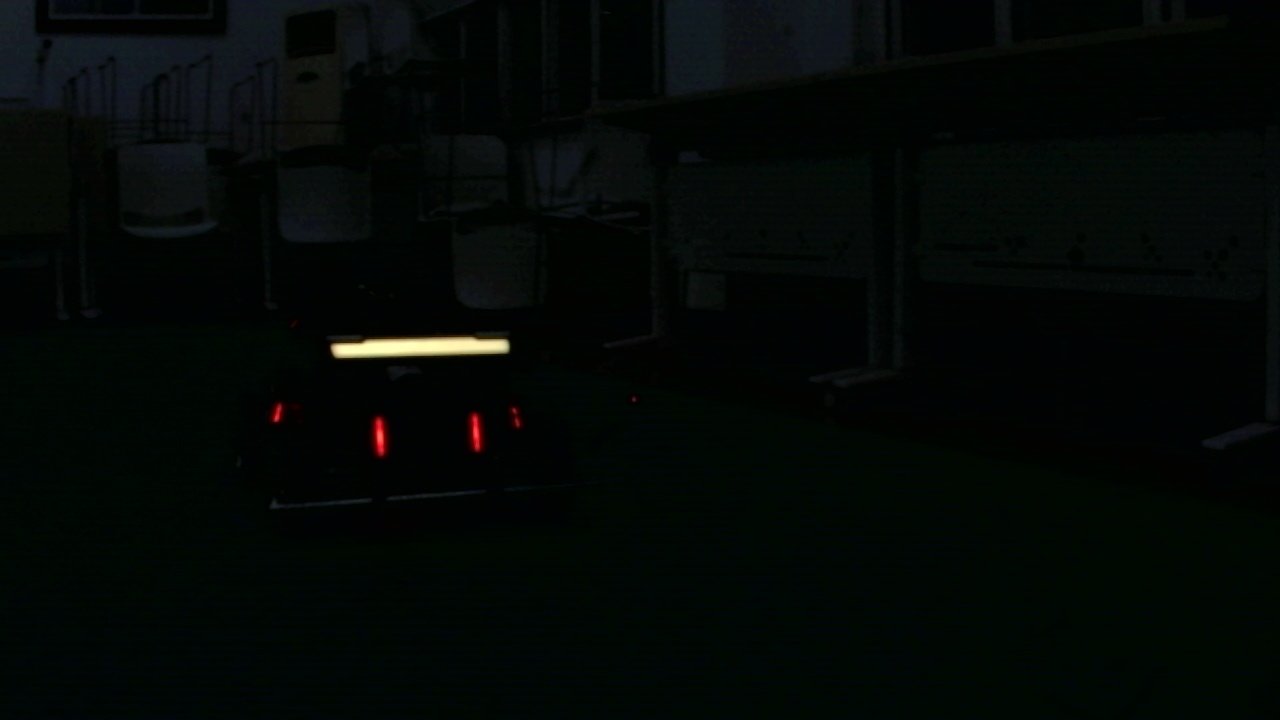lamp: (370, 418, 385, 461), (472, 406, 483, 453)
pair1: (375, 412, 484, 451)
